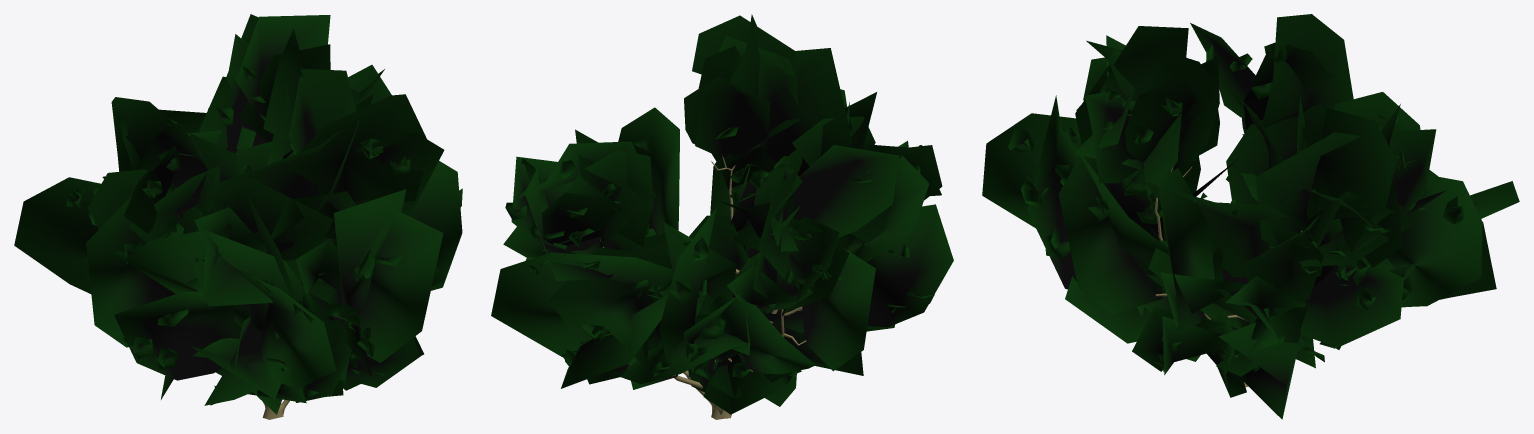
File: RoseBushBigRHEP_E.fbx
3 views of the same model, side by side, from view 1: azimuth 30°, elevation 25°; view 2: azimuth 150°, elevation 25°; view 3: azimuth 270°, elevation 25° (orthographic). The views are drawn at different scales.
Visible parts, largest first — view 1: RBBRHEPE-Leaves_LOD0, RBBRHEPE-Flowers_LOD0; view 2: RBBRHEPE-Leaves_LOD0, RBBRHEPE-Flowers_LOD0, RBBRHEPE-Branches_LOD0; view 3: RBBRHEPE-Leaves_LOD0, RBBRHEPE-Flowers_LOD0.
Part boxes in pixels (bbox=[...]): RBBRHEPE-Leaves_LOD0: bbox=[14, 14, 462, 414]; RBBRHEPE-Flowers_LOD0: bbox=[66, 66, 410, 399]; RBBRHEPE-Leaves_LOD0: bbox=[491, 14, 953, 414]; RBBRHEPE-Flowers_LOD0: bbox=[505, 115, 934, 383]; RBBRHEPE-Branches_LOD0: bbox=[600, 154, 806, 419]; RBBRHEPE-Leaves_LOD0: bbox=[982, 14, 1519, 419]; RBBRHEPE-Flowers_LOD0: bbox=[1008, 42, 1477, 371].
Size of what is drawn, in the model's own units: 2.88 by 2.53 by 3.36.
